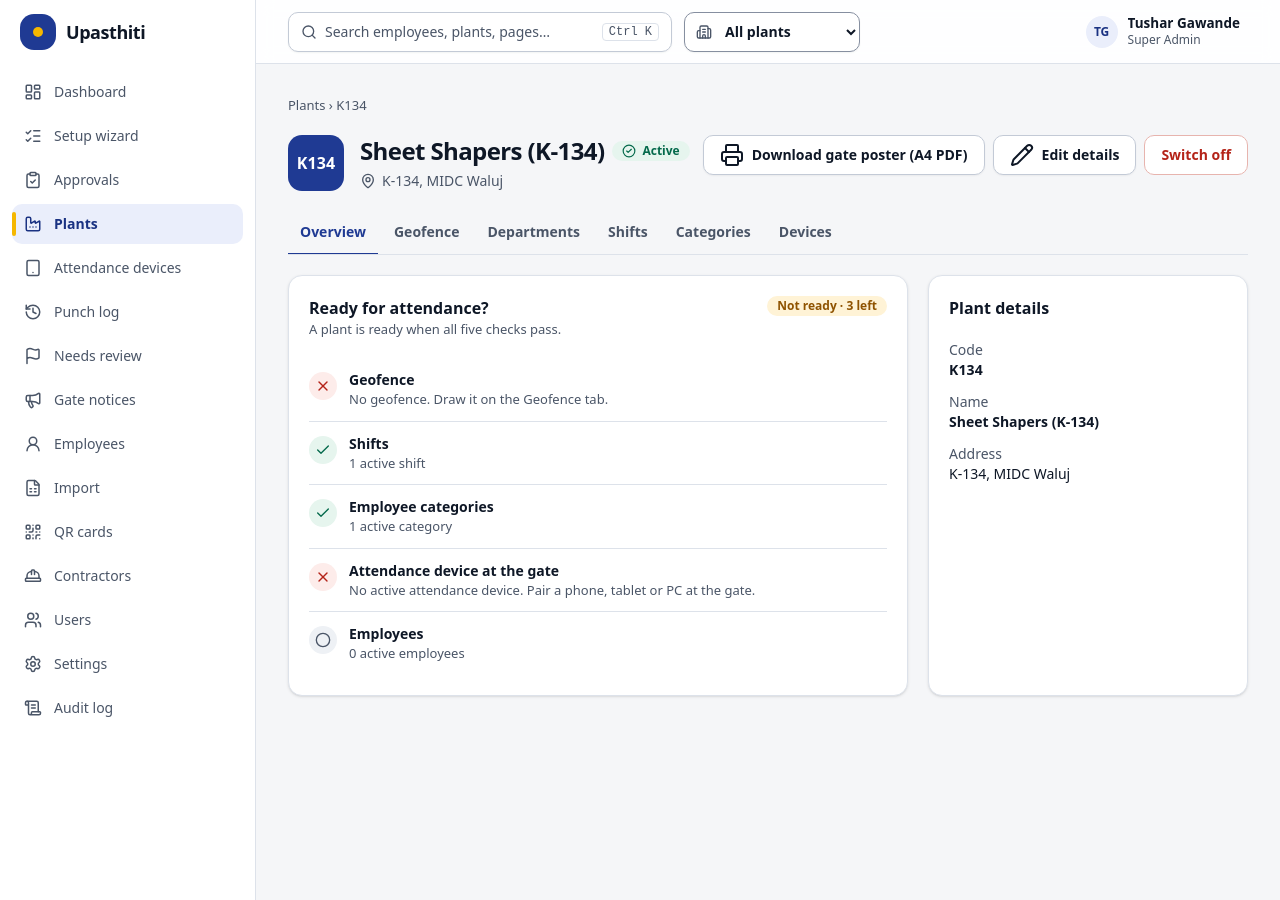
Test: plant details › switches a plant off with a reason and shows the server's refusal
Click the button "Switch off" at (1196,155), box [1144,135,1248,175]
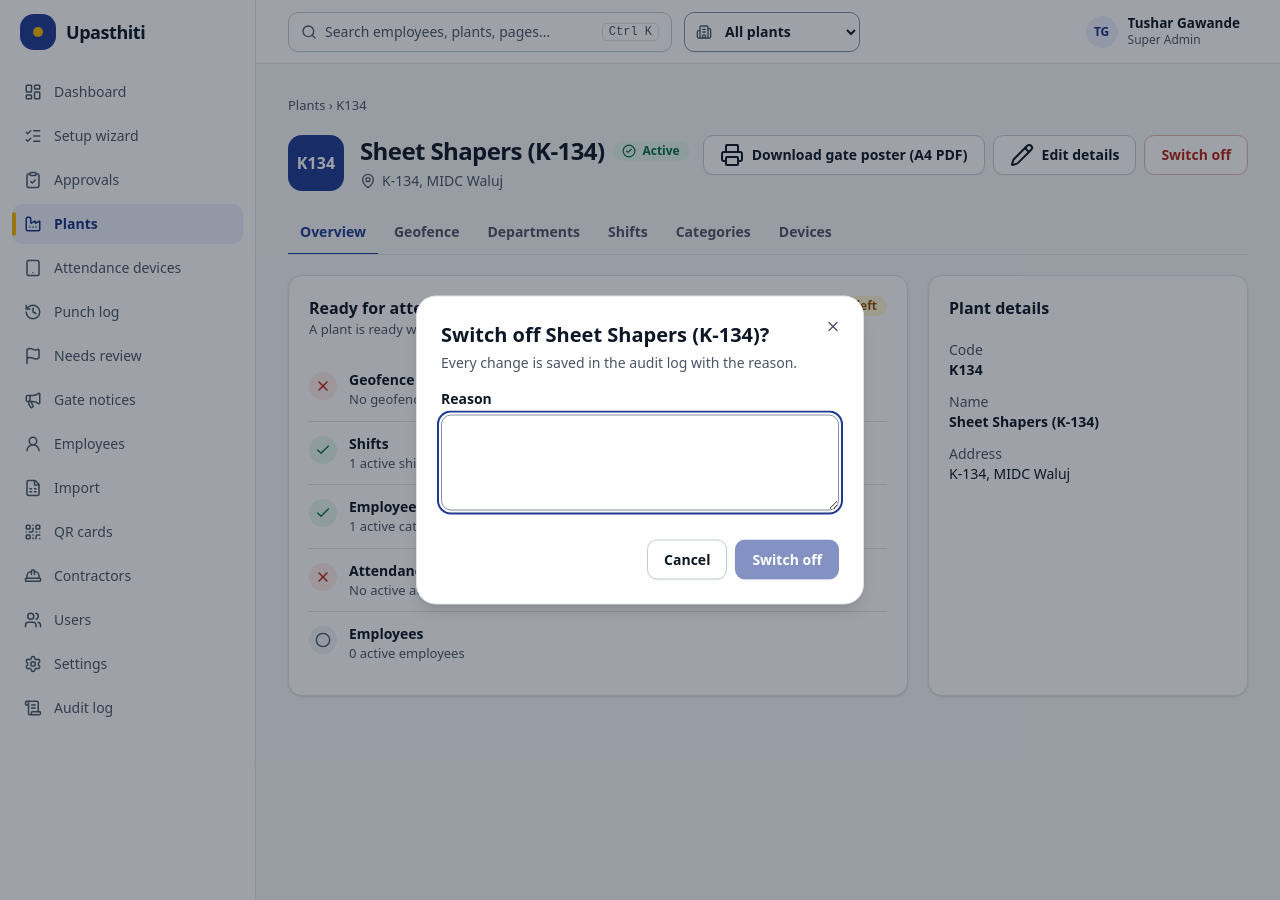
Type "Plant closed" into the text box labelled "Reason" at (640,462), box [441,414,839,510]
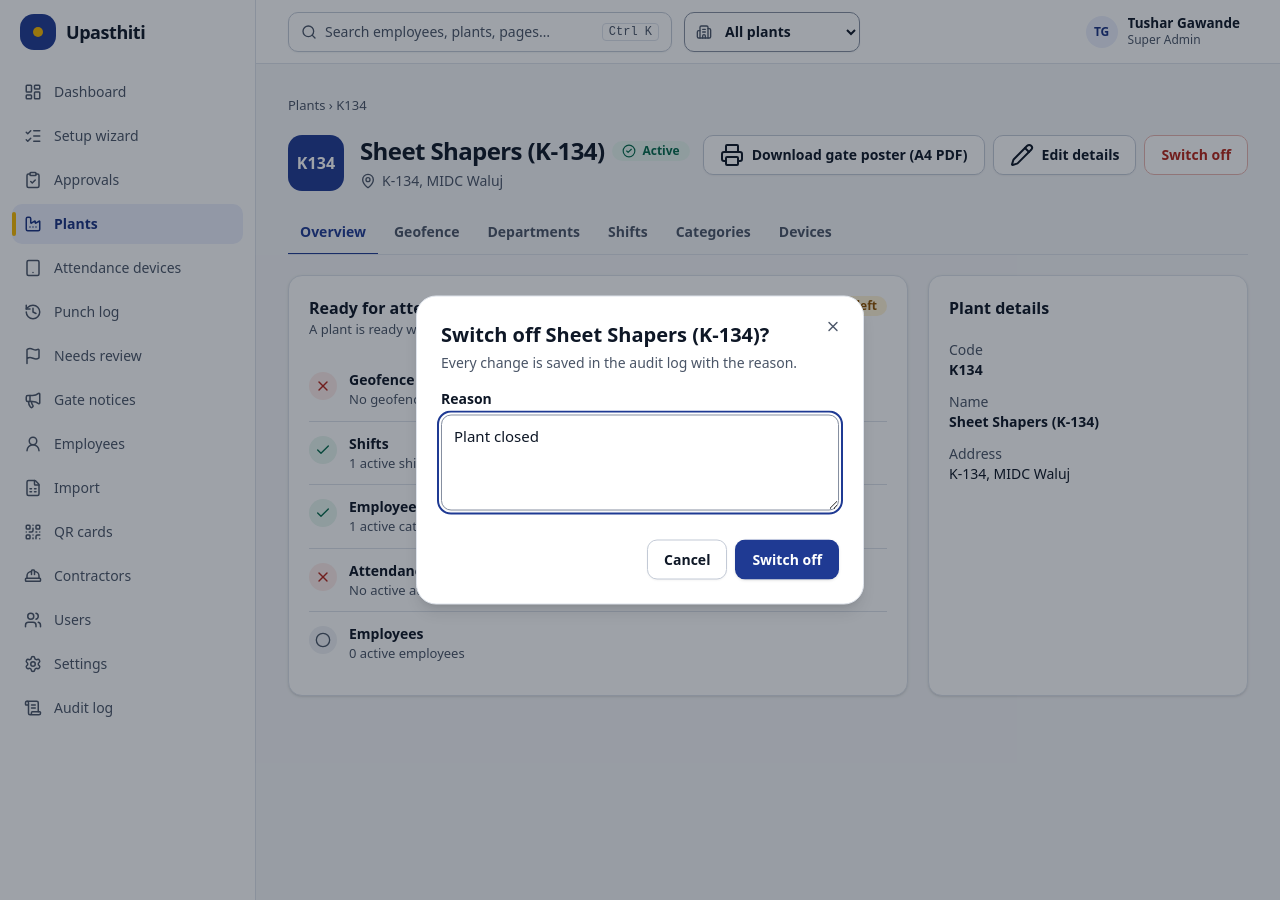
Click the button "Switch off" at (787,560), box [735,540,839,580]
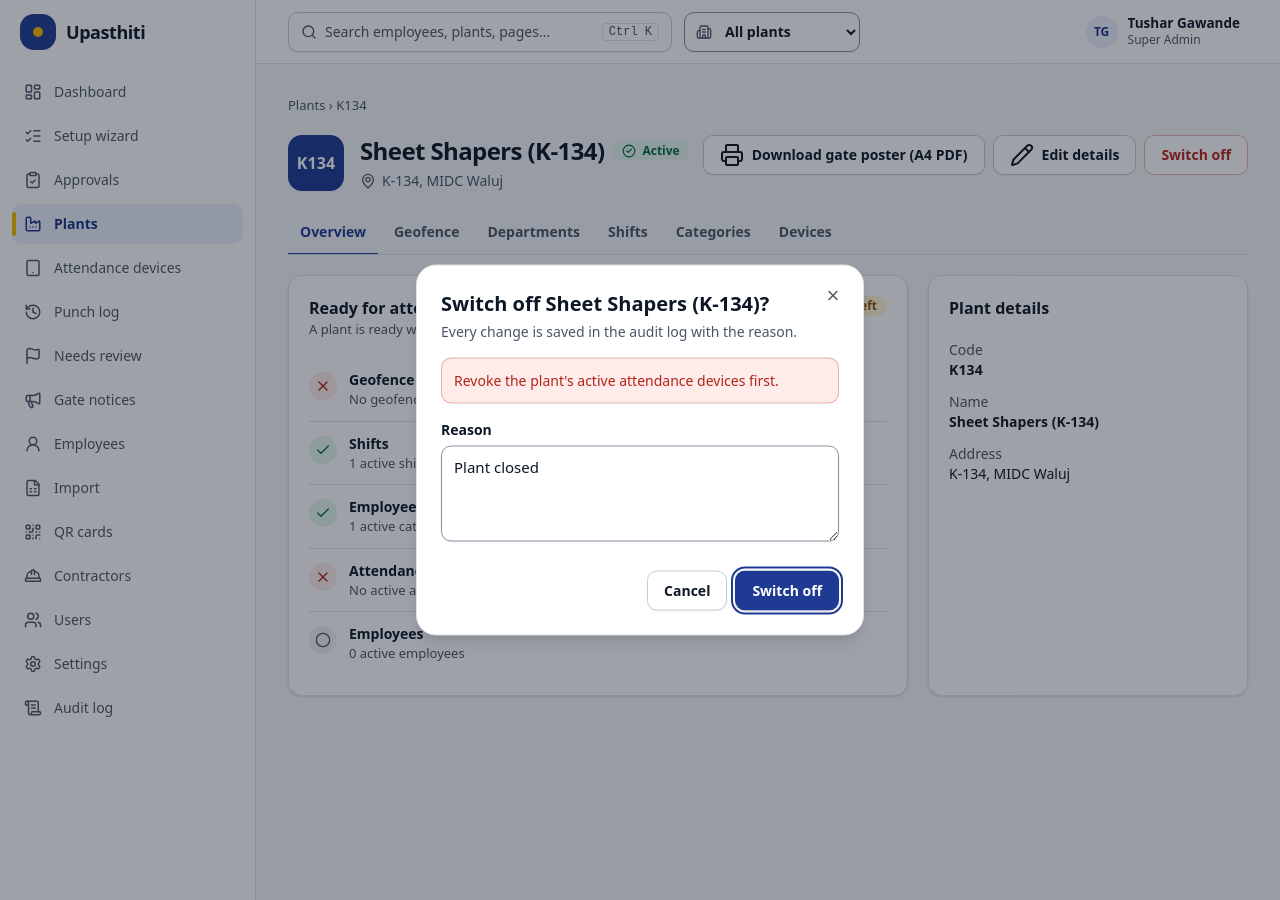
Result: the text "Revoke the plant's active attendance devices first." is shown at [454,370,779,390]
